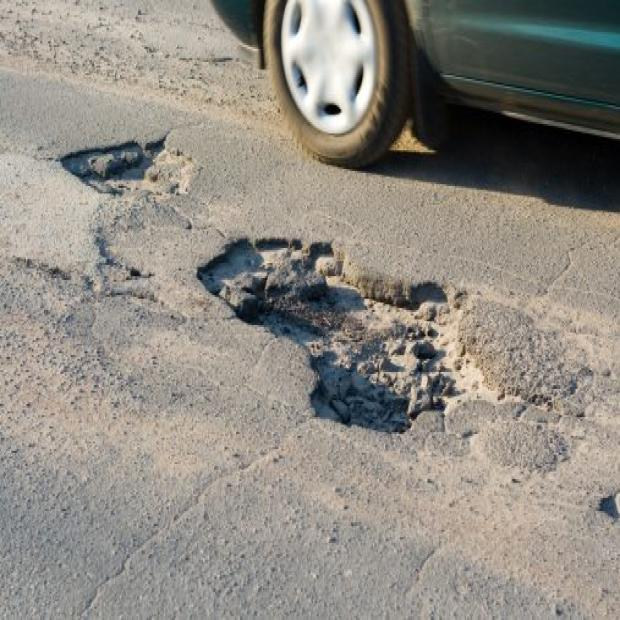lubang: (199, 239, 567, 468), (61, 137, 196, 194)
